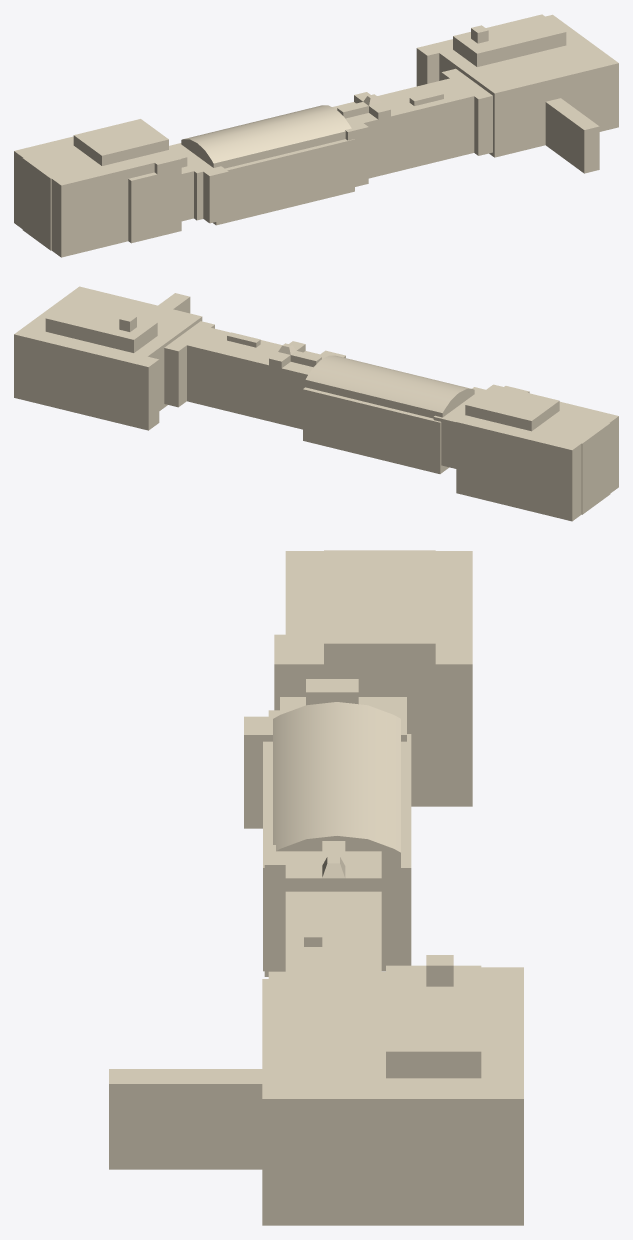
Rendered from SM_Science_Museum.fbx.
3 views of the same model, one above another, from view 1: azimuth 30°, elevation 25°; view 2: azimuth 150°, elevation 25°; view 3: azimuth 270°, elevation 25° (orthographic). The views are drawn at different scales.
Parts seen in each view (by area): view 1: SM_Science_Museum; view 2: SM_Science_Museum; view 3: SM_Science_Museum.
Boxes of the visible parts, bbox=[...] form: SM_Science_Museum: bbox=[14, 14, 618, 257]; SM_Science_Museum: bbox=[14, 286, 618, 521]; SM_Science_Museum: bbox=[109, 550, 523, 1225].
Bounding box in the file's own units: 292 × 44.52 × 95.92.
